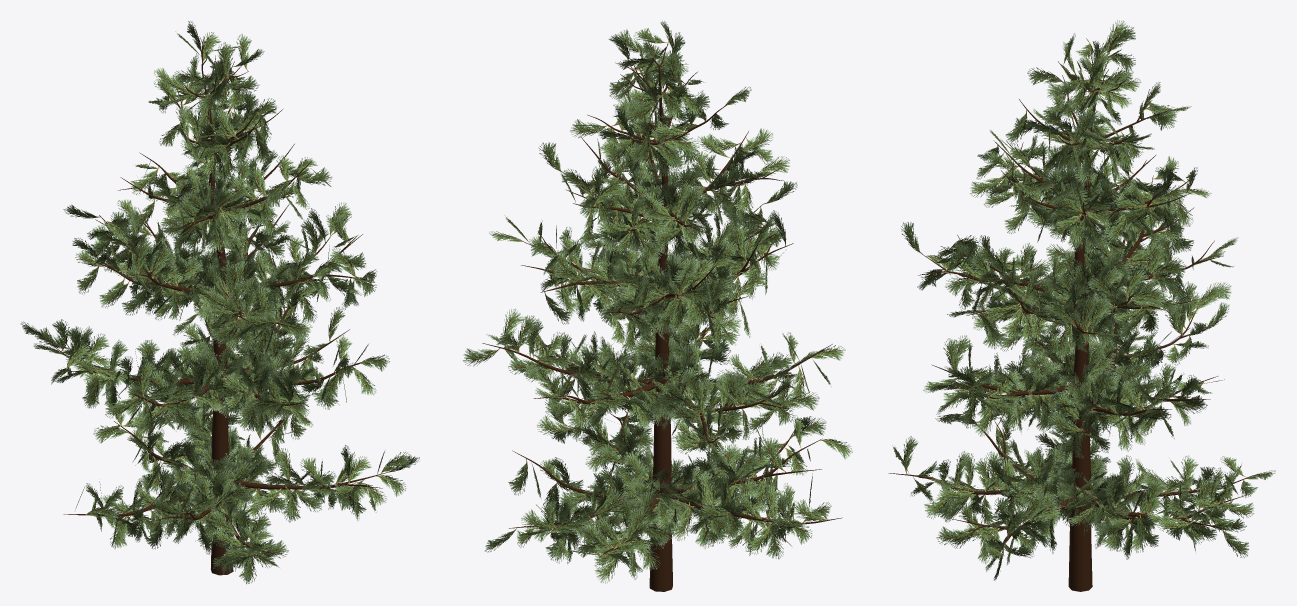
Rendered from Pinus.fbx.
3 renders of one model, left to right at view 1: azimuth 30°, elevation 25°; view 2: azimuth 150°, elevation 25°; view 3: azimuth 270°, elevation 25°, orthographic. The views are drawn at different scales.
Visible parts, largest first — view 1: daun pinus.002; view 2: daun pinus.002; view 3: daun pinus.002.
Part boxes in pixels (<box>): daun pinus.002: <box>20,21,419,584</box>; daun pinus.002: <box>463,21,852,591</box>; daun pinus.002: <box>888,20,1275,591</box>.
Size of the model in its own units: 1402 by 2232 by 1423.
